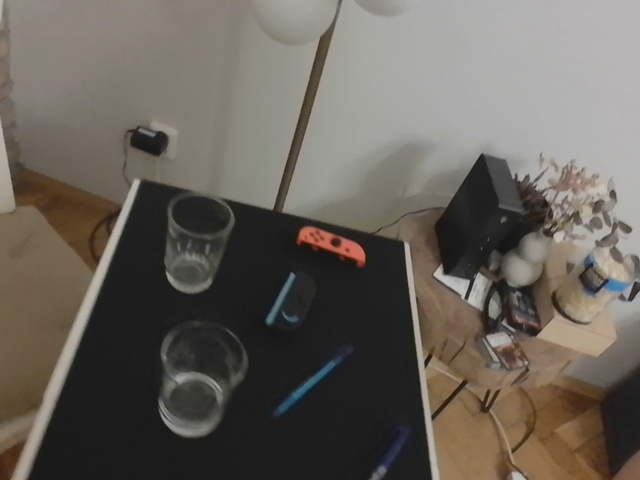glass: (154, 320, 247, 434), (159, 189, 236, 292)
joycon: (292, 220, 368, 269), (262, 269, 320, 328)
pen: (272, 344, 357, 419), (369, 424, 416, 477)
